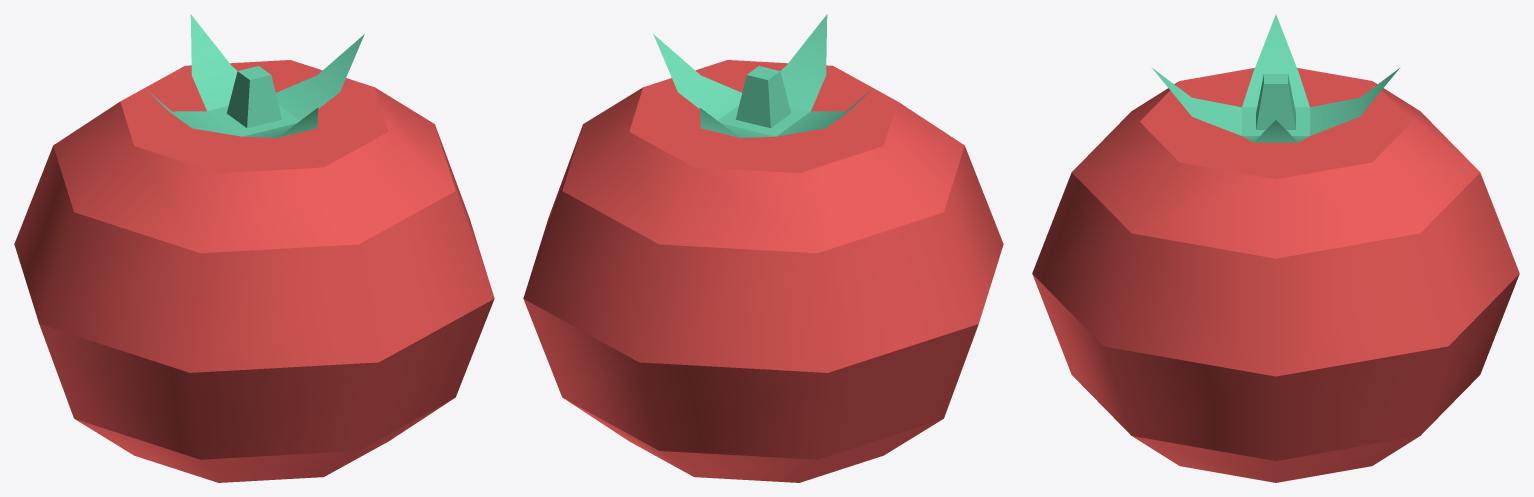
File: tomato.obj
The picture shows the model from 3 angles, left to right: view 1: azimuth 30°, elevation 25°; view 2: azimuth 150°, elevation 25°; view 3: azimuth 270°, elevation 25°; orthographic projection.
Parts seen in each view (by area): view 1: tomato; view 2: tomato; view 3: tomato.
Boxes of the visible parts, left/top/right/bottom form: tomato: left=14, top=14, right=494, bottom=482; tomato: left=523, top=14, right=1003, bottom=482; tomato: left=1032, top=14, right=1519, bottom=482.
Bounding box in the file's own units: 0.1697 × 0.1377 × 0.1697.
